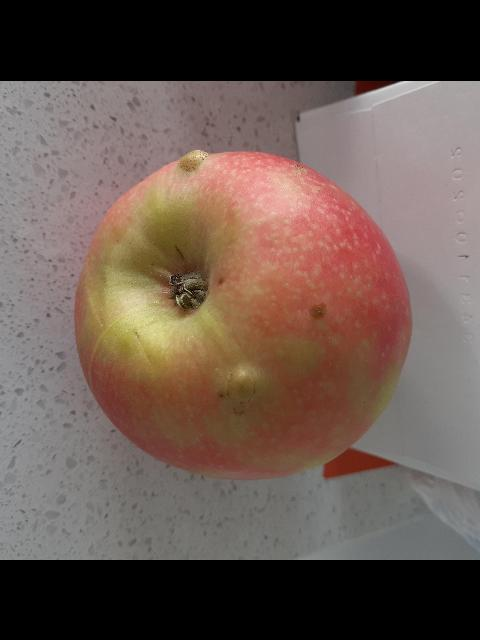Apples: (77, 151, 411, 479)
